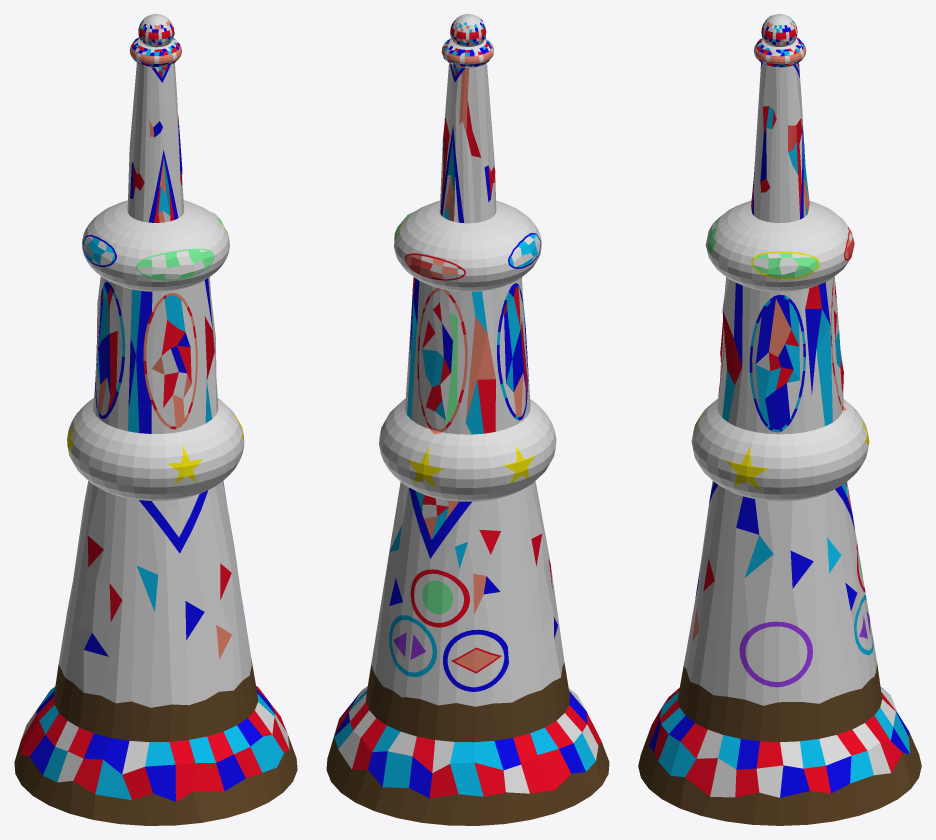
File: Pilar.fbx
3 views of the same model, side by side, from view 1: azimuth 30°, elevation 25°; view 2: azimuth 150°, elevation 25°; view 3: azimuth 270°, elevation 25° (orthographic).
Visible parts, largest first — view 1: Sphere.004; view 2: Sphere.004; view 3: Sphere.004.
Boxes of the visible parts, x1,y1,x2,y2 form: Sphere.004: (14, 14, 297, 825); Sphere.004: (326, 14, 609, 825); Sphere.004: (638, 14, 921, 825).
Bounding box in the file's own units: 196 × 573 × 196.
